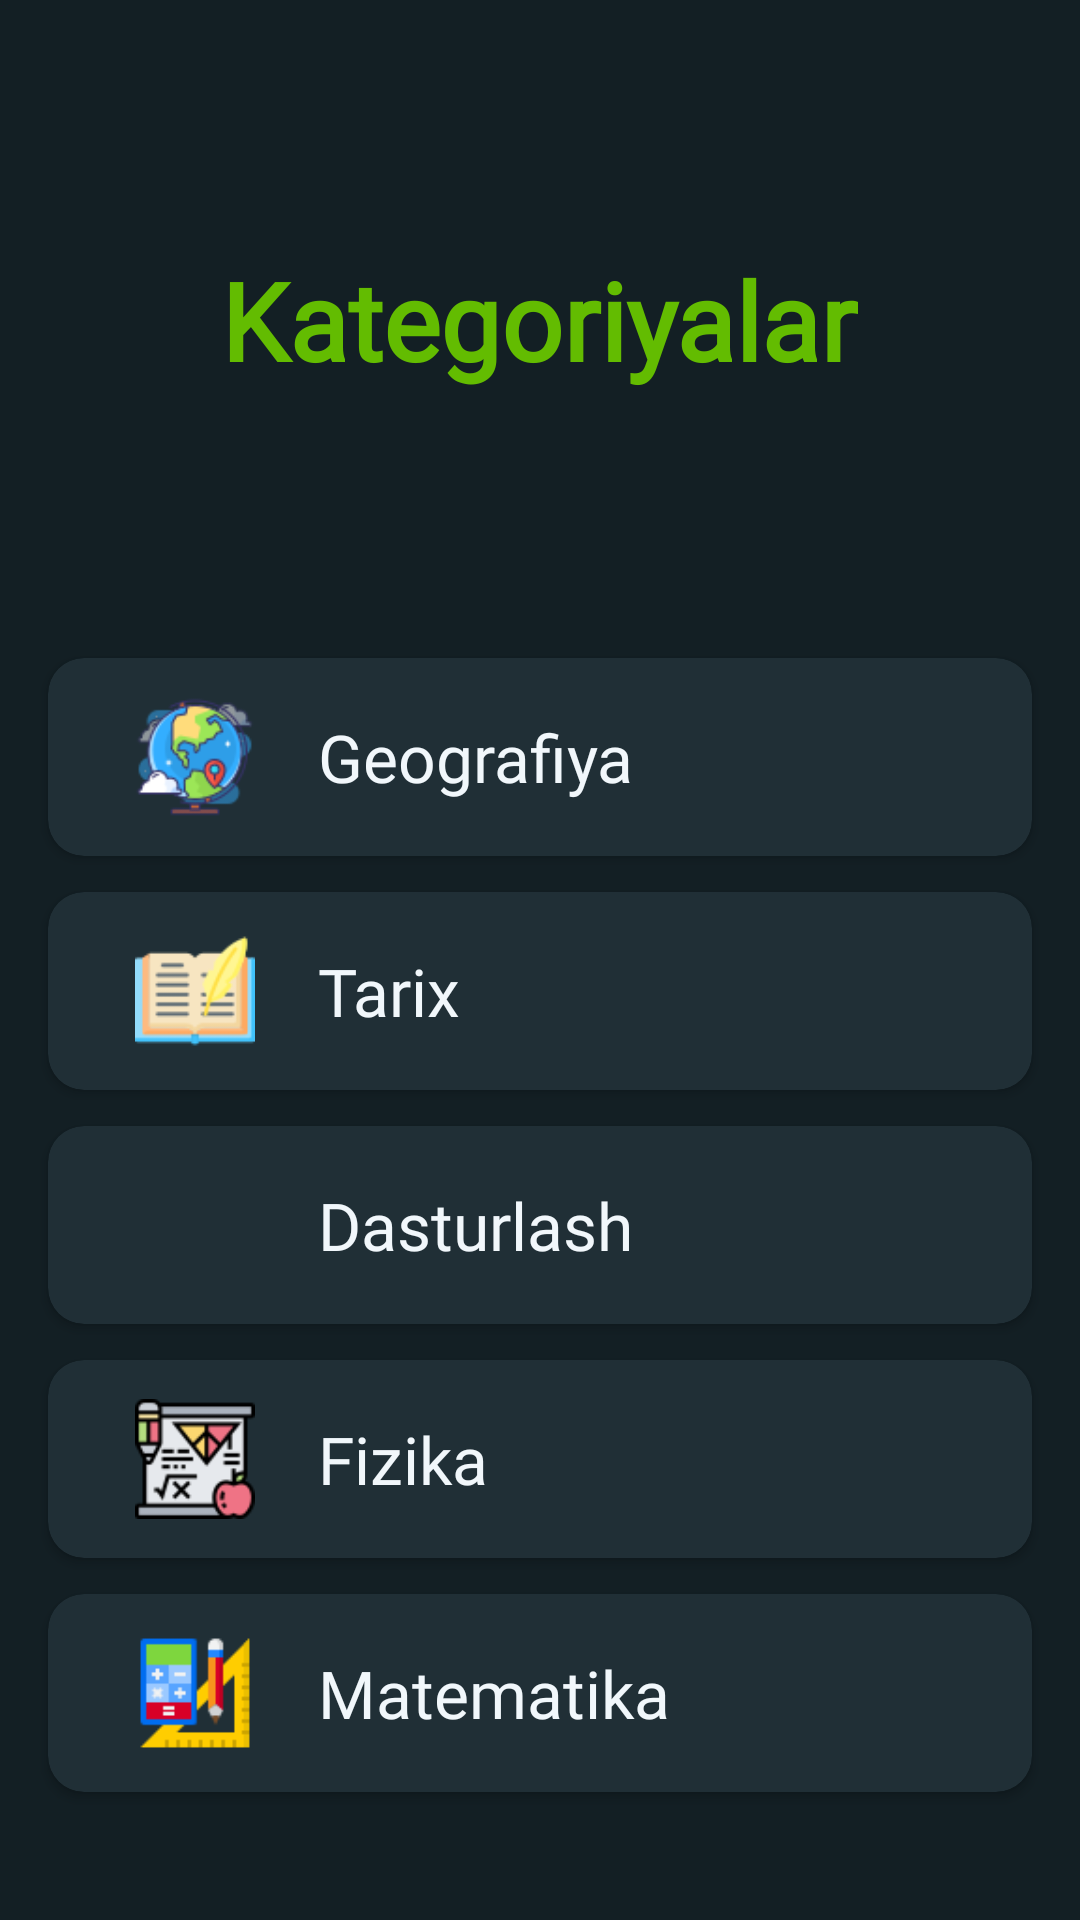

Icon bounding boxes for this 1080px×1920px phone screenshot, format (x1, y1, x2, y2):
globe: (138, 701, 252, 814)
history: (135, 936, 255, 1046)
mathematic: (140, 1638, 250, 1748)
